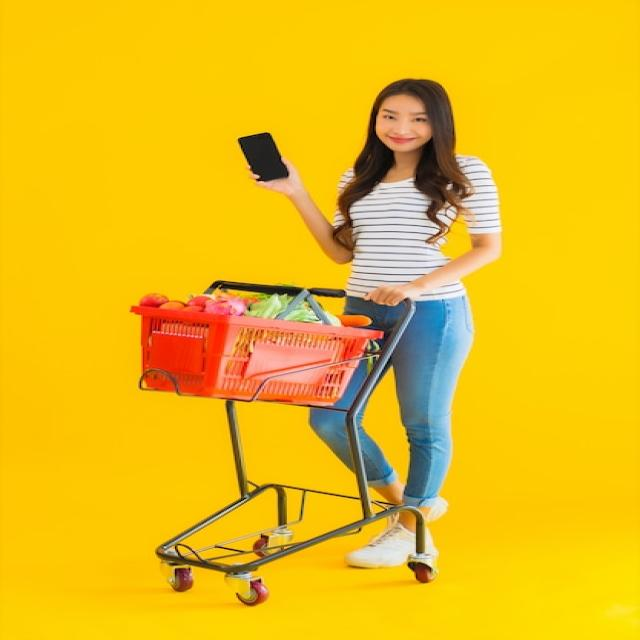Person: (238, 78, 503, 569)
